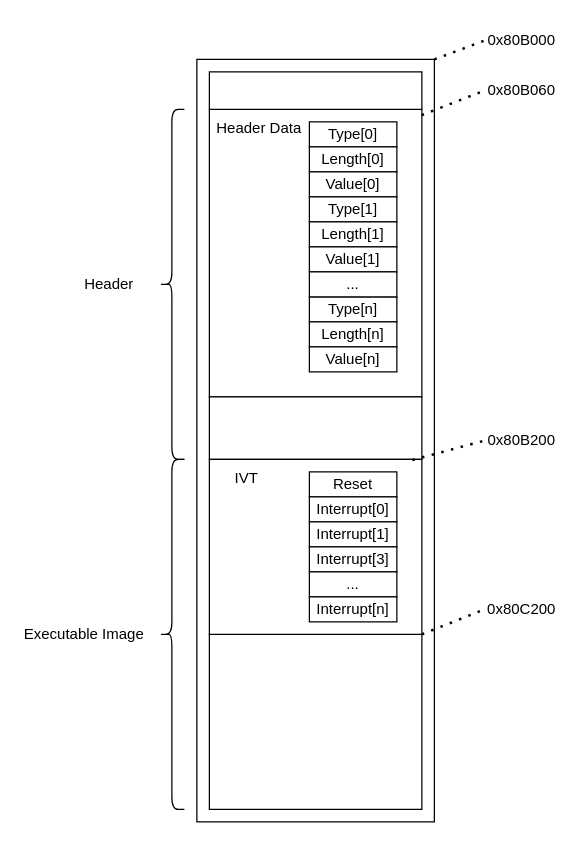
The diagram is 580 pixels wide and 844 high, and some of its shapes have lost their labels. Here are the shapes that lost their labels. From the top down, the box of each, then its label:
(208, 71, 422, 109): Signature of the Header
(208, 396, 422, 459): Extra unused header space - padded with 0x00
(208, 633, 422, 809): Code
